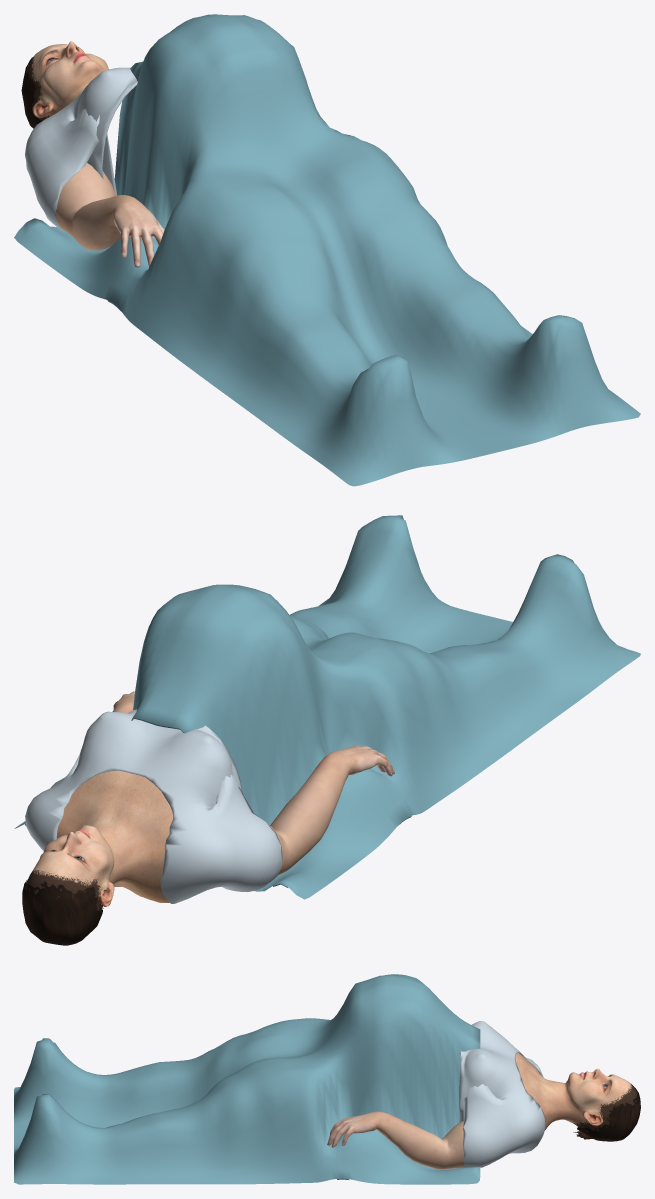
3 renders of one model, top to bottom at view 1: azimuth 30°, elevation 25°; view 2: azimuth 150°, elevation 25°; view 3: azimuth 270°, elevation 25°, orthographic. The views are drawn at different scales.
Visible parts, largest first — view 1: sheet, gown, arms, body; view 2: sheet, gown, body, arms, hair; view 3: sheet, gown, body, arms, hair.
Boxes of the visible parts, x1,y1,x2,y2 form: sheet: [14, 14, 640, 486]; gown: [25, 67, 137, 232]; arms: [55, 163, 164, 267]; body: [26, 41, 108, 120]; sheet: [14, 515, 640, 899]; gown: [25, 709, 282, 903]; body: [25, 770, 172, 940]; arms: [112, 691, 394, 875]; hair: [22, 877, 103, 945]; sheet: [14, 974, 480, 1184]; gown: [459, 1021, 545, 1167]; body: [515, 1053, 638, 1131]; arms: [327, 1111, 464, 1169]; hair: [573, 1085, 640, 1141].
Size of the model in its own units: 0.6377 by 0.4776 by 1.73.
Materials: 8 (6 with a texture image).
